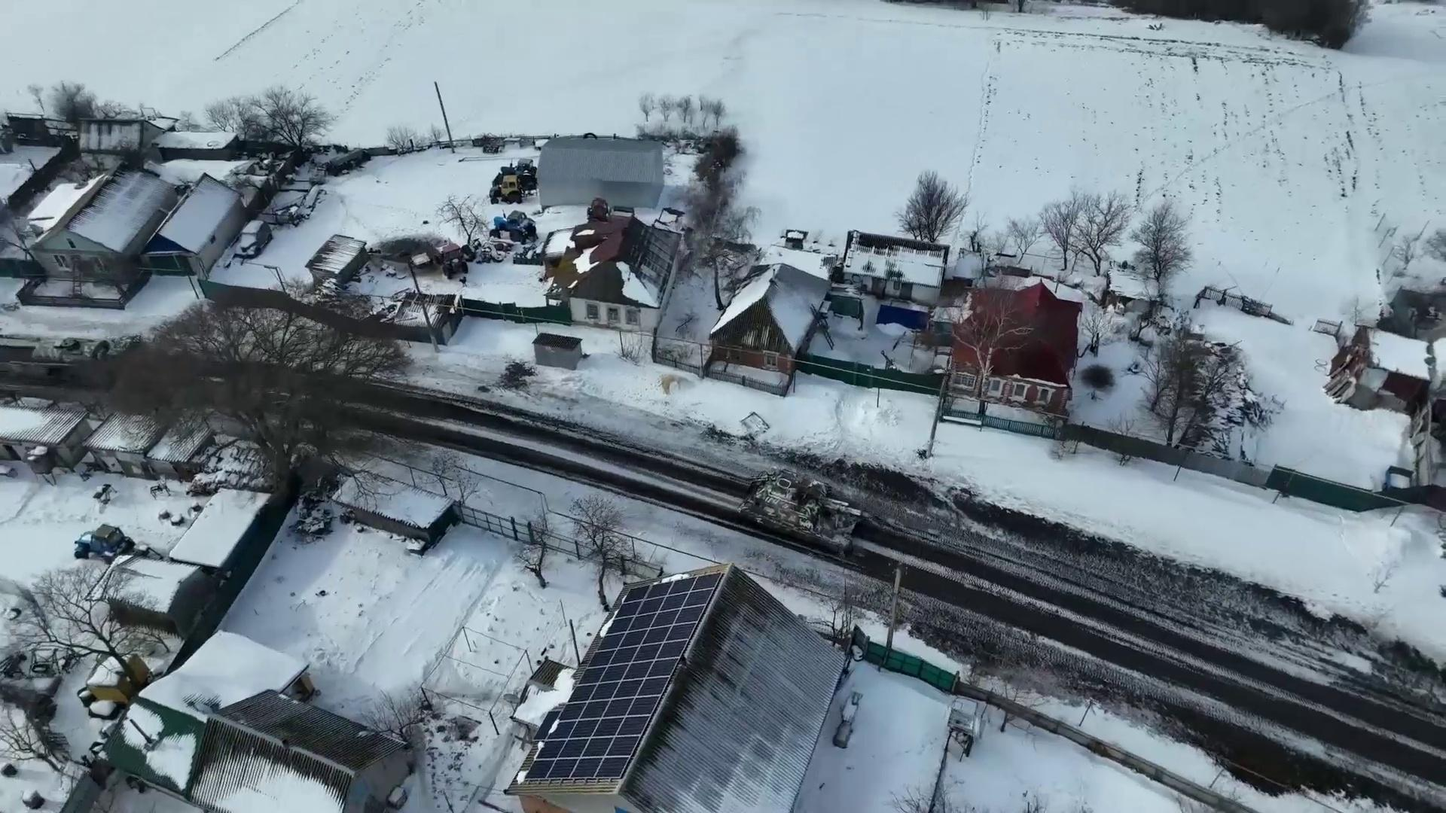car: (73, 524, 136, 561), (489, 209, 539, 244), (500, 157, 537, 186), (490, 175, 523, 204)
sau: (738, 469, 888, 559)
truck: (22, 336, 171, 390)
